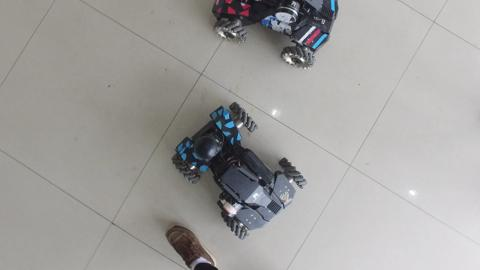chariot: (162, 97, 313, 240), (208, 1, 348, 73)
